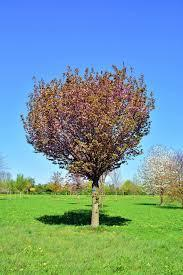tree: (18, 60, 157, 231)
